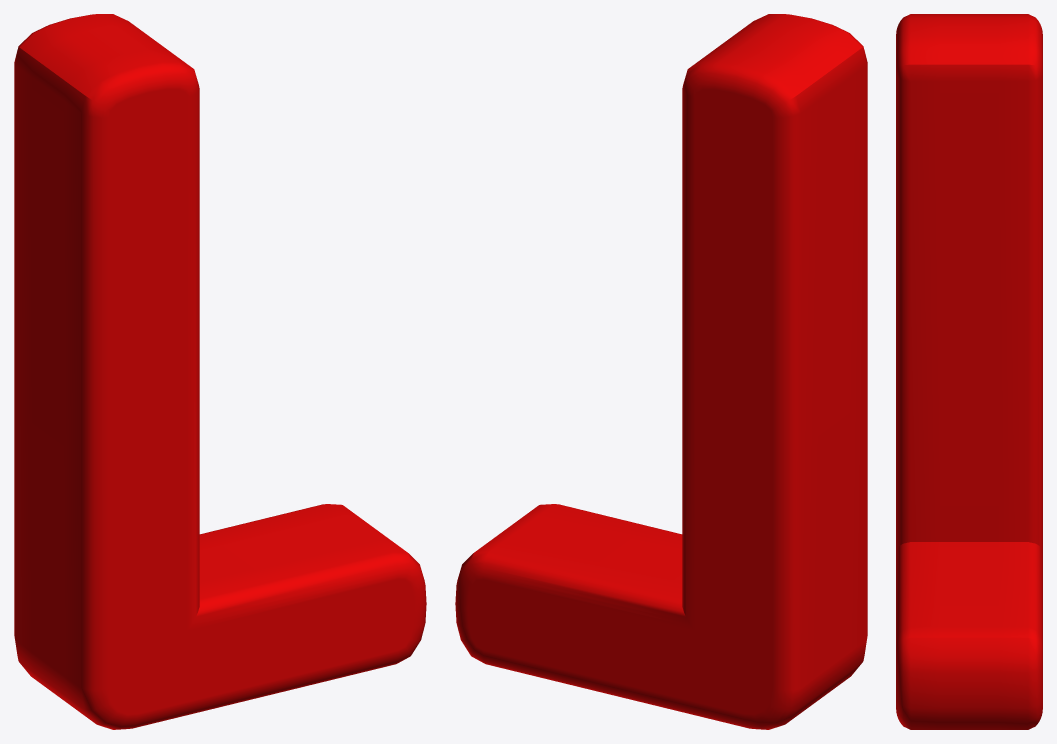
3 views of the same model, side by side, from view 1: azimuth 30°, elevation 25°; view 2: azimuth 150°, elevation 25°; view 3: azimuth 270°, elevation 25° (orthographic). The views are drawn at different scales.
Parts seen in each view (by area): view 1: L; view 2: L; view 3: L.
Boxes of the visible parts, x1=… form: L: x1=14, y1=14, x2=426, y2=729; L: x1=455, y1=14, x2=867, y2=729; L: x1=896, y1=14, x2=1042, y2=729.
Size of the model in its own units: 6.07 by 11.1 by 2.5.
